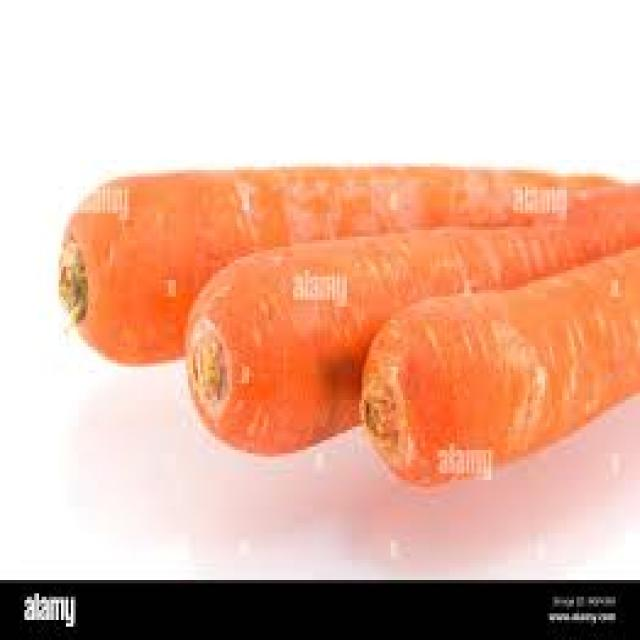Stale_Carrot: (188, 176, 640, 450), (64, 168, 633, 363), (368, 241, 640, 494)
